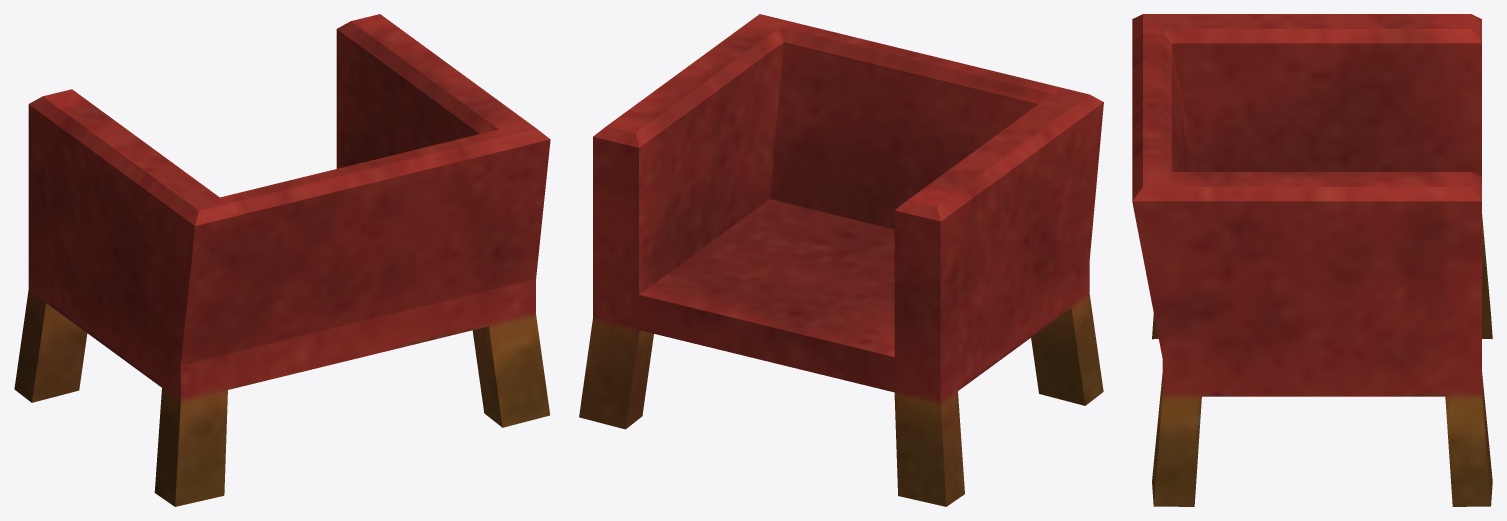
The model's file is Armchair.fbx.
The picture shows the model from 3 angles, left to right: view 1: azimuth 30°, elevation 25°; view 2: azimuth 150°, elevation 25°; view 3: azimuth 270°, elevation 25°; orthographic projection. The views are drawn at different scales.
Visible parts, largest first — view 1: Armchair; view 2: Armchair; view 3: Armchair.
Boxes of the visible parts, bbox=[...] form: Armchair: bbox=[14, 14, 550, 506]; Armchair: bbox=[579, 14, 1103, 506]; Armchair: bbox=[1132, 14, 1492, 506].
Bounding box in the file's own units: 57.19 × 42.82 × 45.13.
